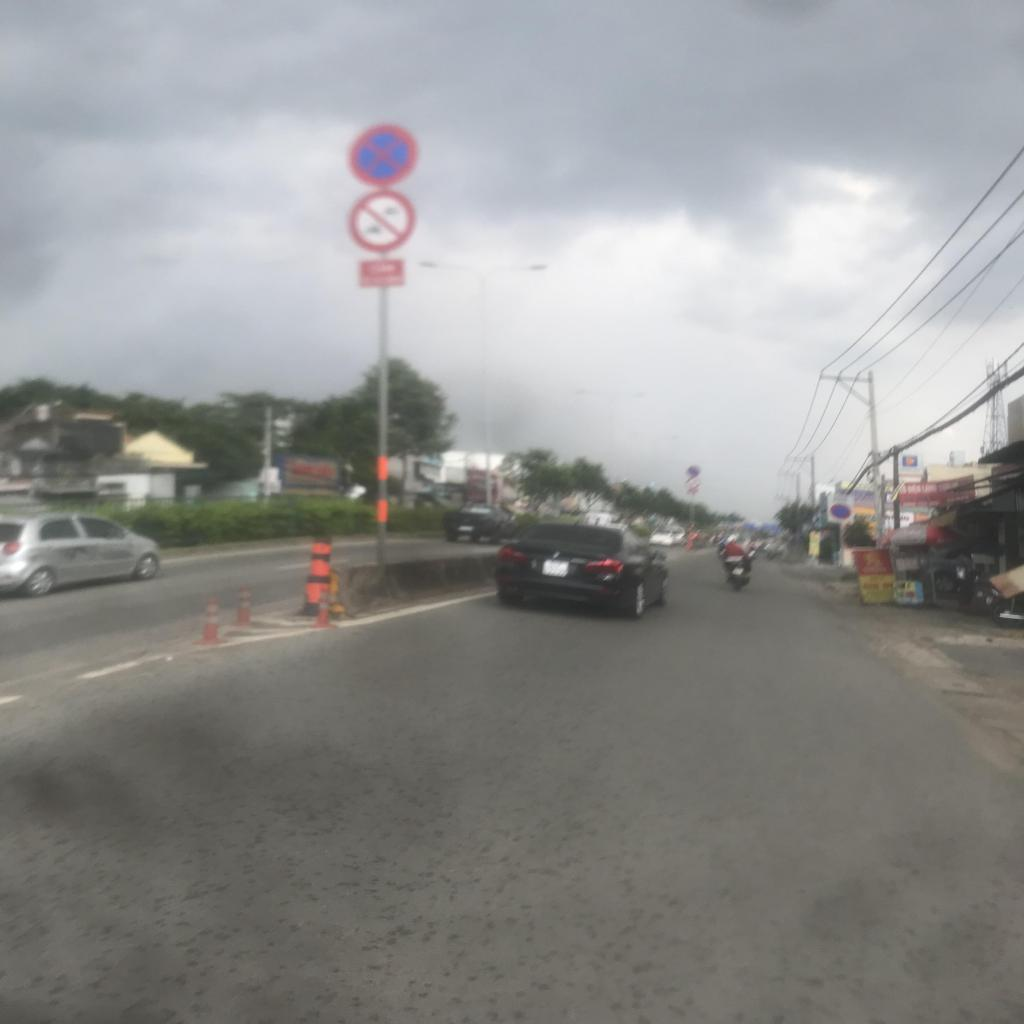cam_dung_xe_va_do_xe: (350, 127, 416, 186), (830, 504, 852, 518), (687, 466, 701, 476)
cam_xe_2_banh_va_xe_3_banh_co_dong_co: (349, 189, 416, 252), (686, 476, 701, 488)
